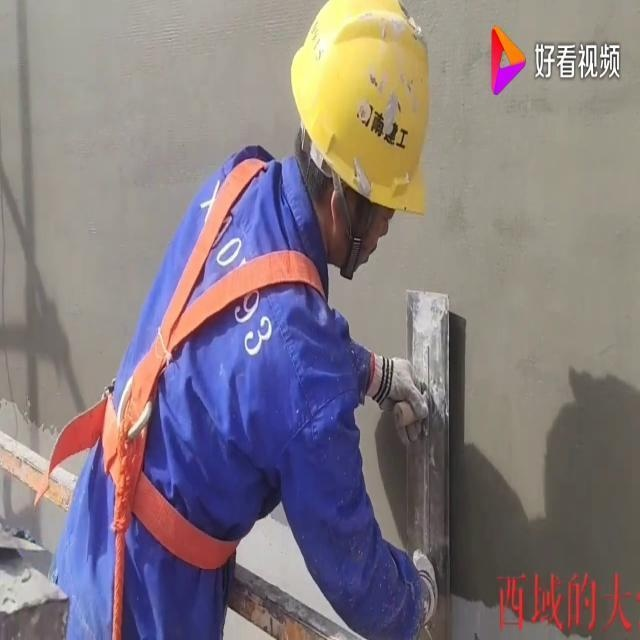Arnes_seguridad: (91, 137, 337, 590)
